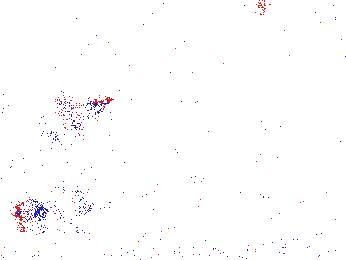flame jellyfish: (13, 173, 93, 227), (35, 97, 111, 153), (265, 154, 324, 215)
